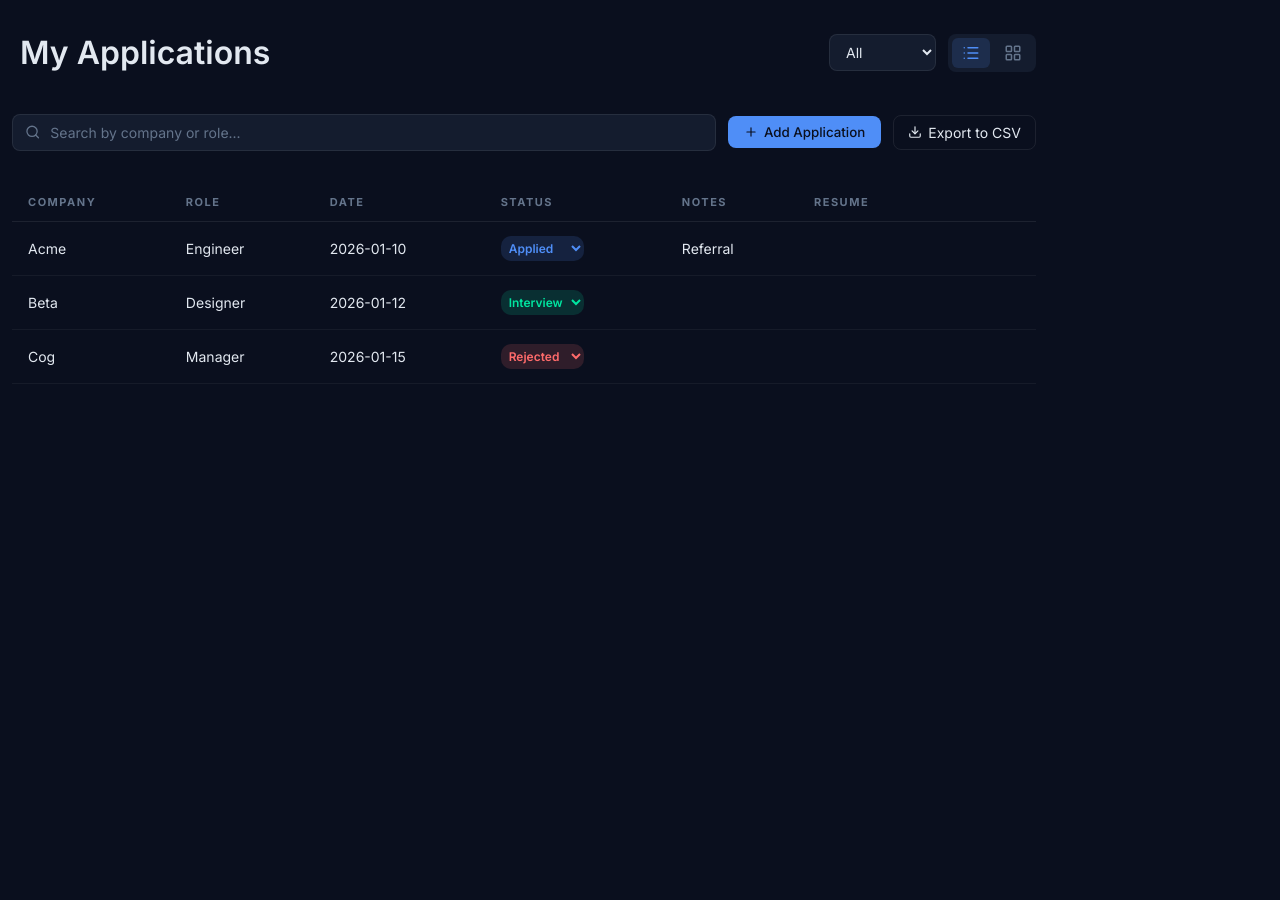
Scenario: Applied — status custom dropdown in form › toggles the custom select
Click the button "Add Application". click: click(805, 132)
box: left=728, top=116, right=881, bottom=148
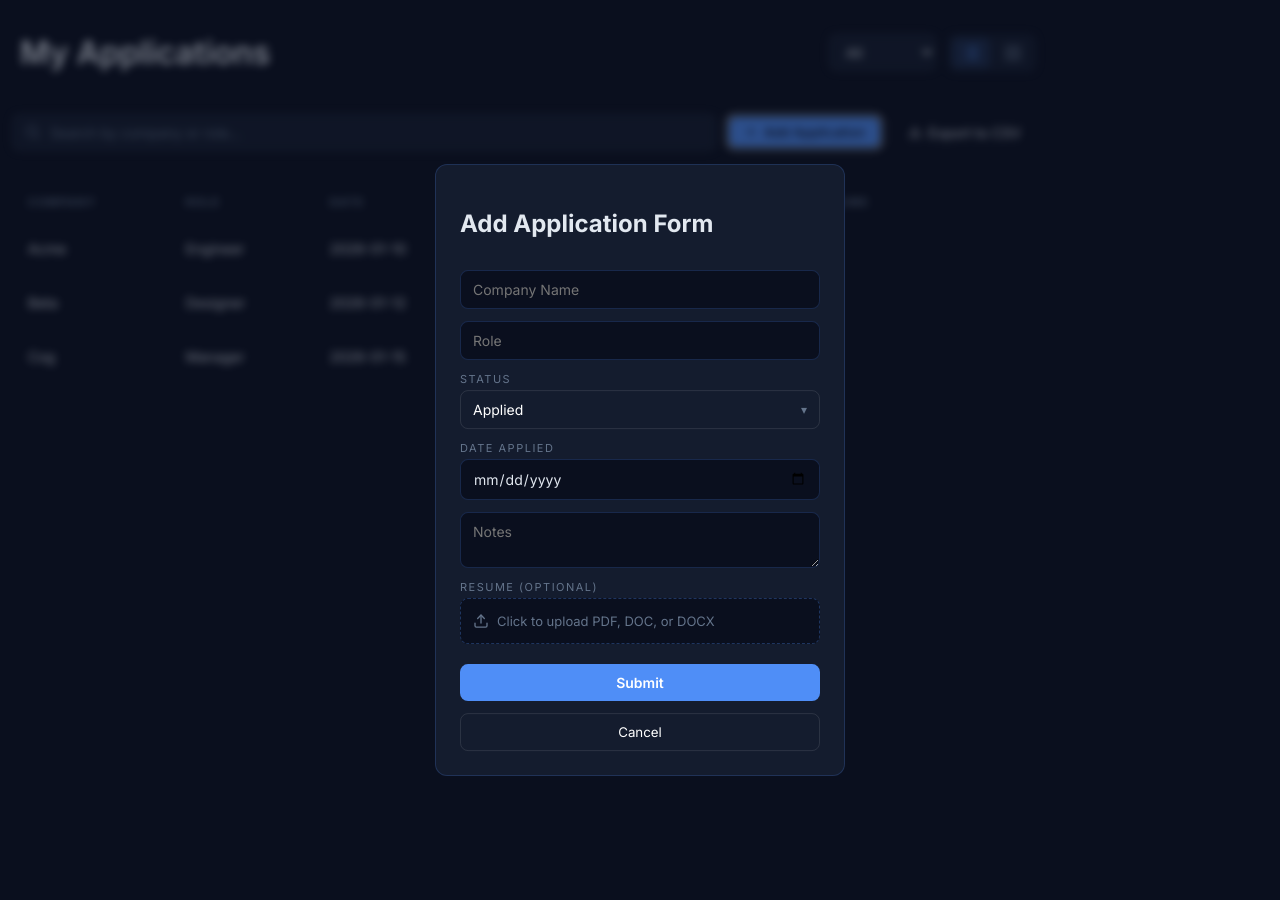
Click the button with class "custom-select-button". click: click(498, 409)
box: left=460, top=390, right=820, bottom=429
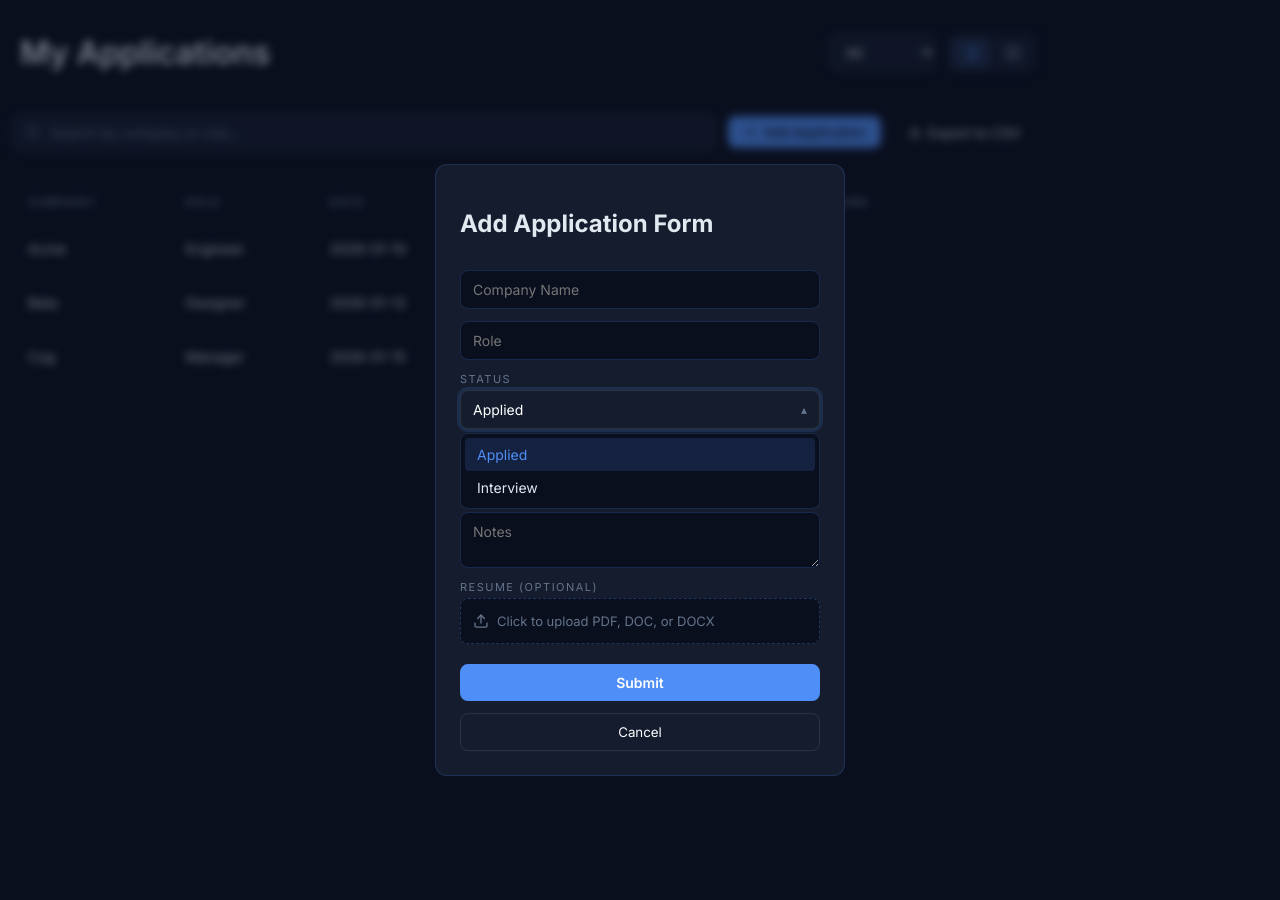
Expected: the list with class "custom-select-list" is shown, left=460, top=433, right=820, bottom=509
// Pick "Interview"
Click the list item "Interview". click: click(507, 487)
box: left=477, top=479, right=538, bottom=496
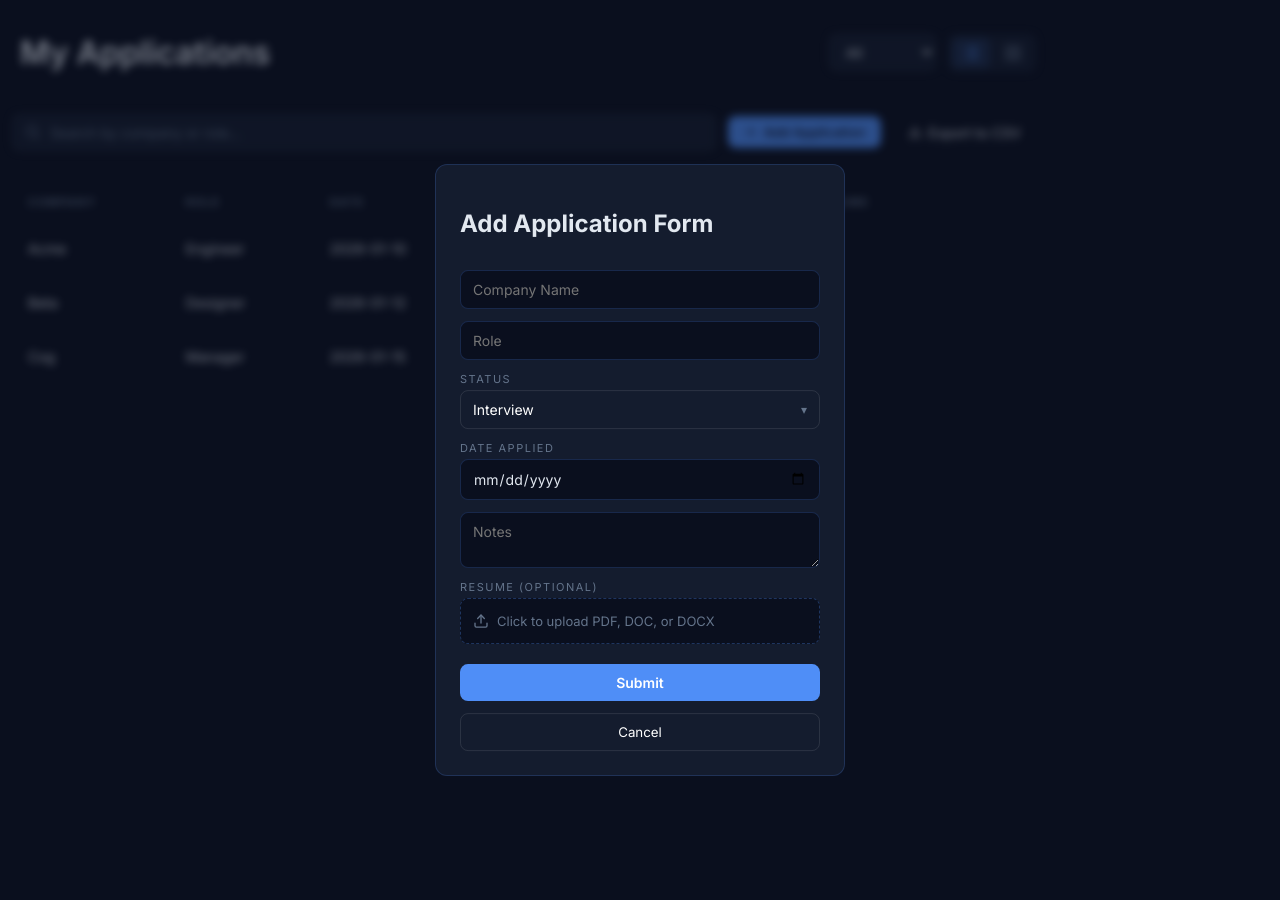
Expected: the list with class "custom-select-list" is gone
